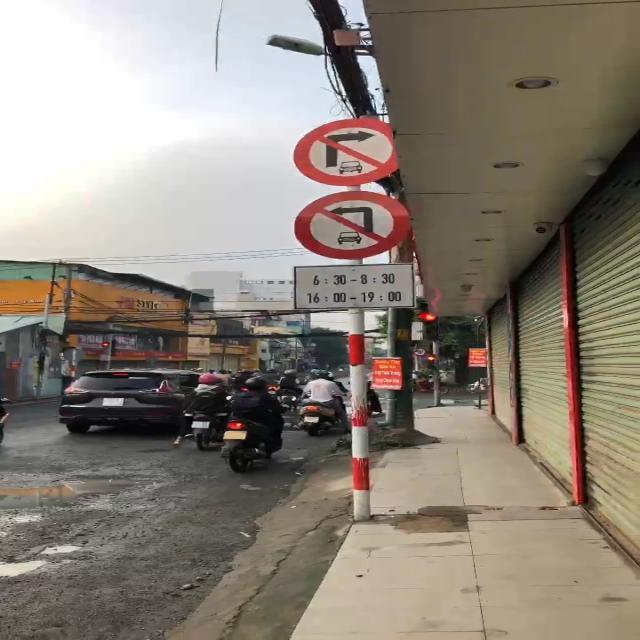Bien bao cam xe o to re phai: (292, 114, 414, 184)
Bien bao cam xe o to re trai: (288, 189, 425, 261)
